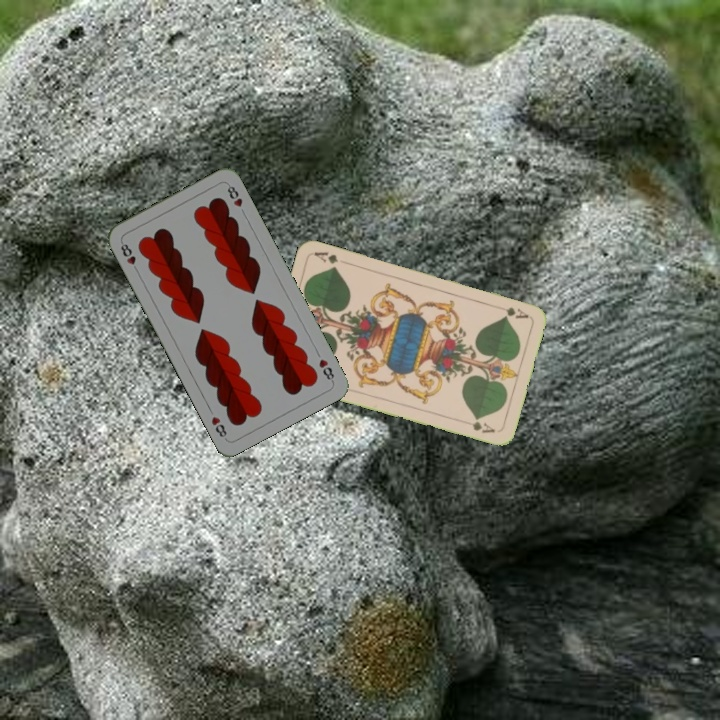GA: (492, 302, 531, 321)
H8: (116, 237, 141, 275), (315, 355, 337, 385)
